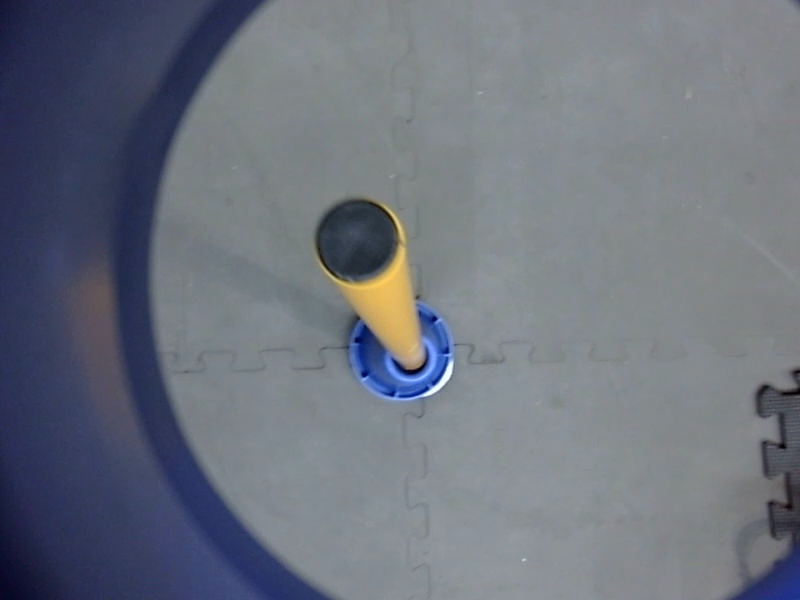tip: (308, 191, 409, 292)
